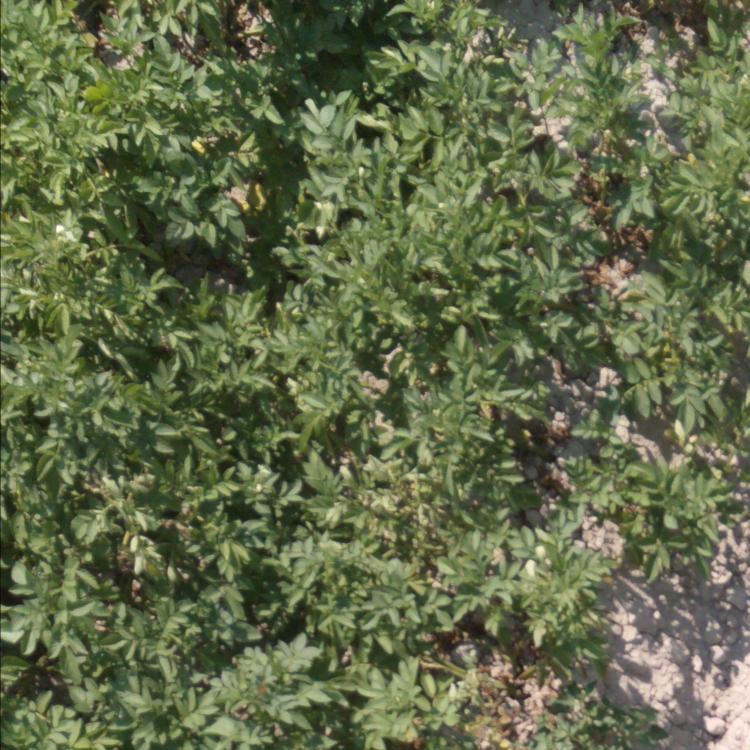healthy: (246, 483, 501, 740), (1, 480, 238, 745), (221, 242, 486, 471), (283, 7, 529, 232), (8, 1, 238, 235), (528, 5, 748, 231), (1, 242, 213, 474), (594, 230, 744, 425), (511, 238, 581, 524), (602, 432, 720, 595), (513, 677, 646, 749), (515, 537, 596, 653)
